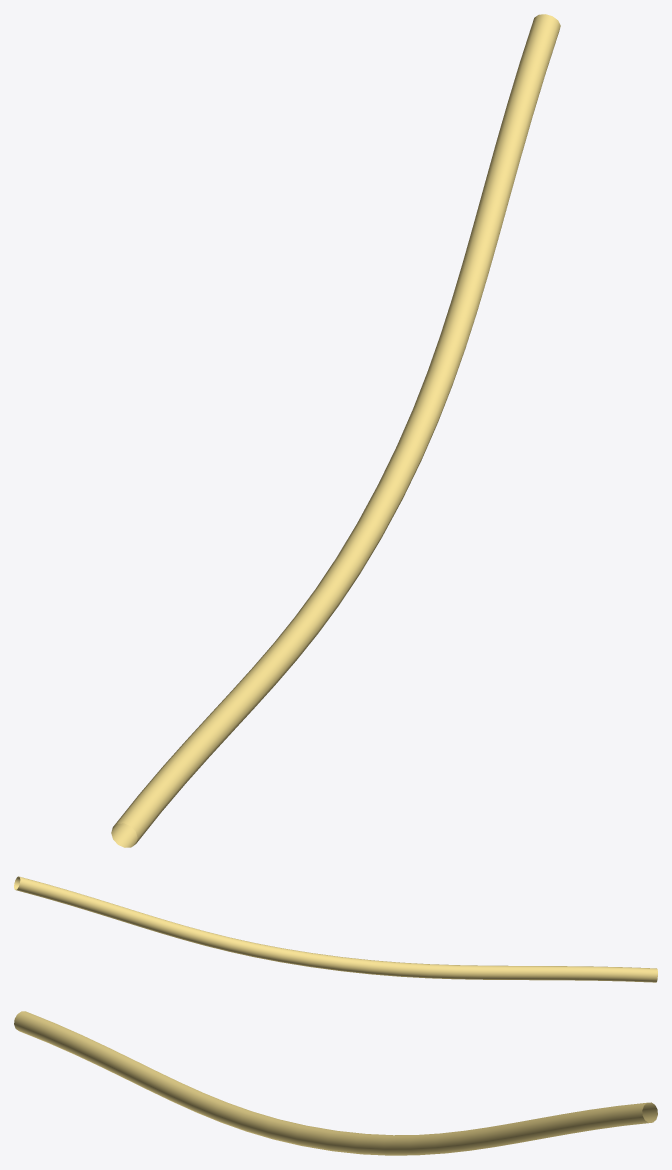
3 views of the same model, one above another, from view 1: azimuth 30°, elevation 25°; view 2: azimuth 150°, elevation 25°; view 3: azimuth 270°, elevation 25° (orthographic). The views are drawn at different scales.
Parts seen in each view (by area): view 1: ZA_43d61aec71e83b8d; view 2: ZA_43d61aec71e83b8d; view 3: ZA_43d61aec71e83b8d.
Boxes of the visible parts, left/top/right/bottom form: ZA_43d61aec71e83b8d: left=111, top=14, right=560, bottom=847; ZA_43d61aec71e83b8d: left=14, top=876, right=657, bottom=982; ZA_43d61aec71e83b8d: left=14, top=1011, right=657, bottom=1155.
Bounding box in the file's own units: 0.0349 × 0.0121 × 0.0306.
